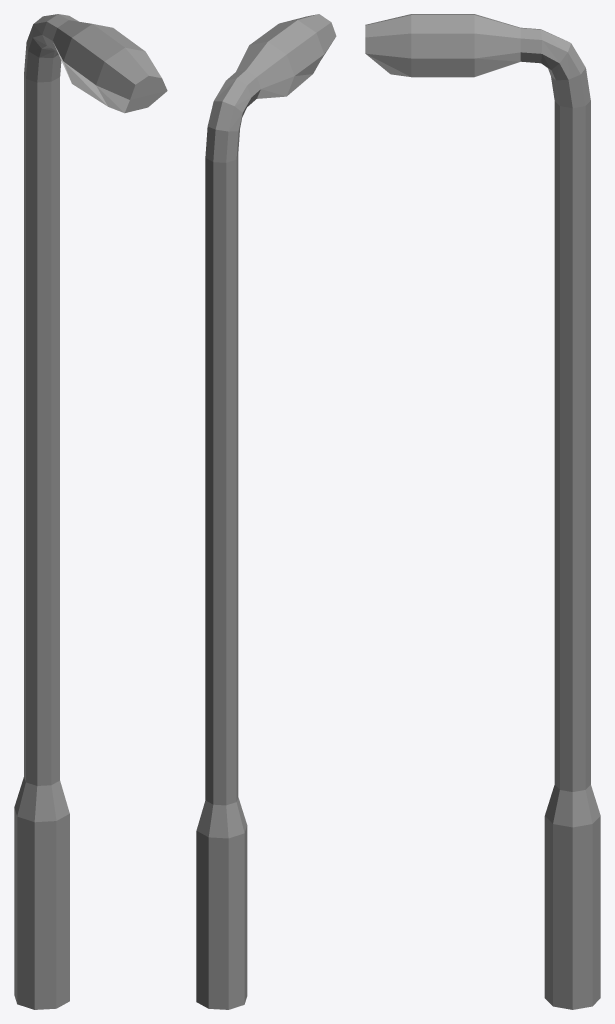
File: Street lamp_short.FBX
3 views of the same model, side by side, from view 1: azimuth 30°, elevation 25°; view 2: azimuth 150°, elevation 25°; view 3: azimuth 270°, elevation 25° (orthographic). The views are drawn at different scales.
Parts seen in each view (by area): view 1: street lamp short; view 2: street lamp short; view 3: street lamp short.
Boxes of the visible parts, x1,y1,x2,y2 form: street lamp short: (14,14,167,1009); street lamp short: (196,14,336,1009); street lamp short: (365,14,600,1009).
Size of the model in its own units: 14.2 by 235 by 51.11.
